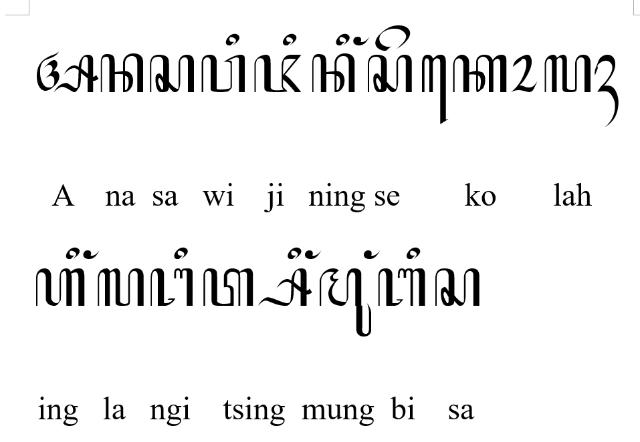A: (36, 52, 98, 92)
_h1: (594, 54, 618, 128)
_s: (258, 268, 312, 306)
b: (378, 268, 426, 308)
e: (375, 24, 411, 52)
e1: (422, 54, 448, 124)
h: (36, 268, 86, 308)
i: (283, 32, 297, 46), (336, 32, 350, 46), (66, 247, 80, 261), (407, 246, 421, 259), (225, 34, 239, 46), (174, 248, 188, 260), (288, 248, 302, 260)
j: (254, 53, 302, 93)
k: (451, 54, 507, 94)
l: (544, 54, 592, 92), (98, 268, 144, 306)
mu: (318, 268, 372, 336)
n: (100, 53, 144, 93), (312, 53, 356, 92)
ng: (354, 36, 371, 46), (83, 250, 99, 259), (305, 250, 321, 259), (364, 250, 380, 259)
nga: (150, 268, 194, 308)
o: (510, 54, 538, 92)
s: (367, 54, 413, 94), (149, 53, 195, 92), (436, 268, 480, 306)
t: (202, 269, 254, 307)
w: (202, 54, 246, 94)
